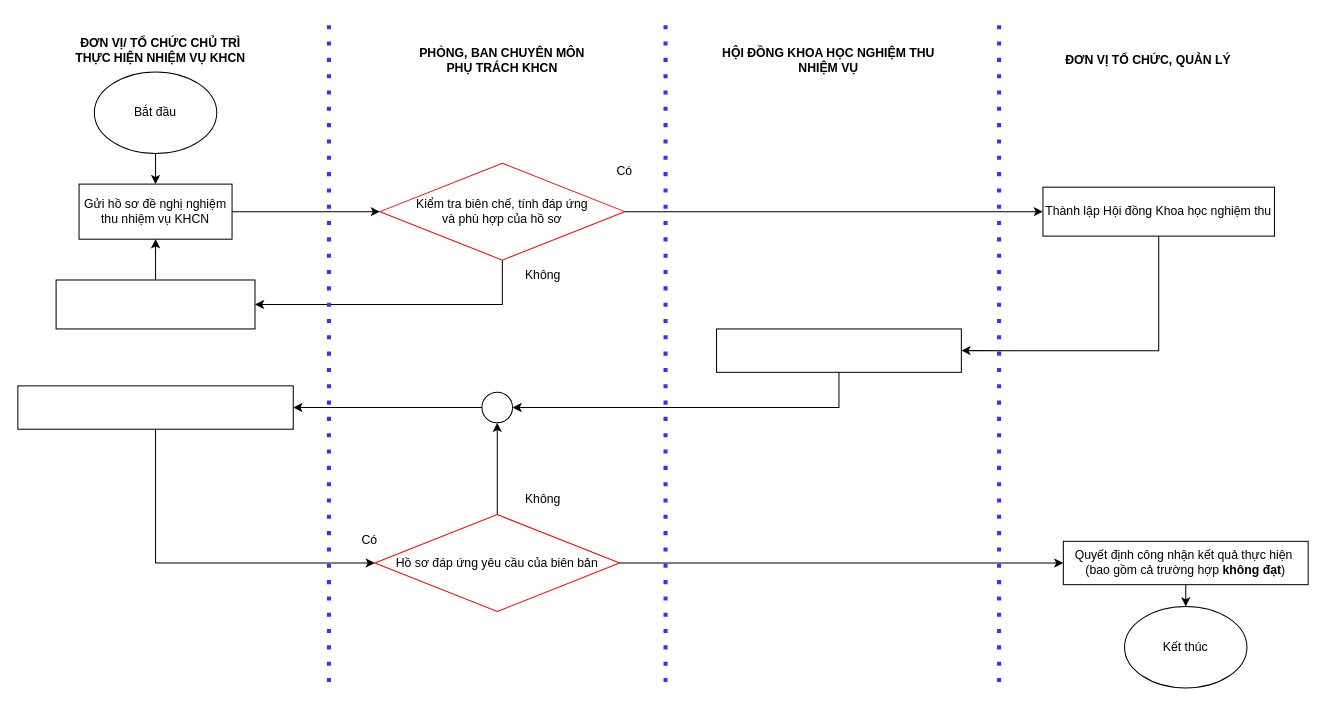
This 1326x707 diagram has some shape labels left out. Here are the shapes that lost their labels. From the top down, the centre of each, then its label:
At pixel 155 304: "Bổ sung, hiệu chỉnh, hoàn thiện".
At pixel 838 350: "TỔ CHỨC HỌP HỘI ĐỒNG NGHIỆM THU (Ban hành BB không quá 15 NLV)".
At pixel 155 407: "Hoàn thiện hồ sơ, sản phẩm theo biên bản (không quá 30 NLV)".
